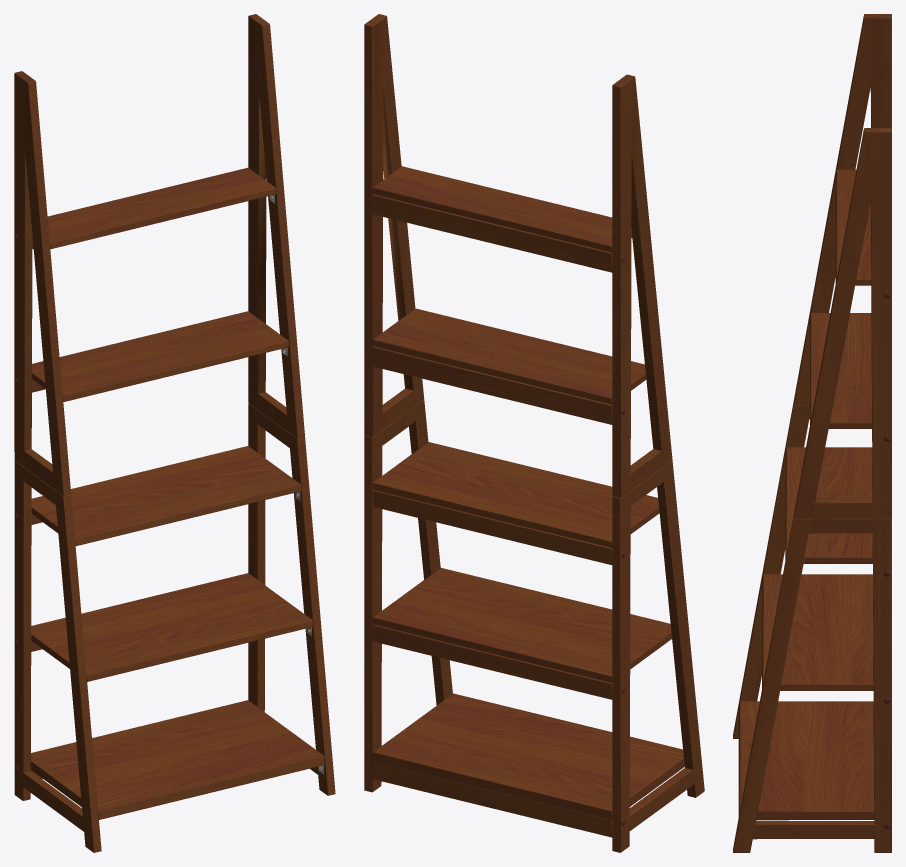
Rendered from B07PSZHDMW.glb.
3 renders of one model, left to right at view 1: azimuth 30°, elevation 25°; view 2: azimuth 150°, elevation 25°; view 3: azimuth 270°, elevation 25°, orthographic. The views are drawn at different scales.
Parts seen in each view (by area): view 1: B07PSZHDMW; view 2: B07PSZHDMW; view 3: B07PSZHDMW.
Part boxes in pixels (box(x1,y1,x2,y2)): B07PSZHDMW: box(14, 14, 335, 852); B07PSZHDMW: box(364, 14, 704, 852); B07PSZHDMW: box(733, 14, 891, 852).
Bounding box in the file's own units: 0.6298 × 1.78 × 0.3555.
1 material, 1 textured.
